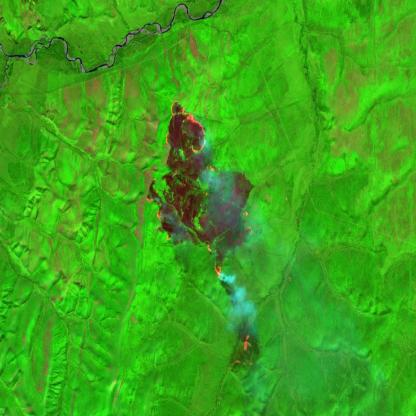fire: (145, 93, 255, 281)
